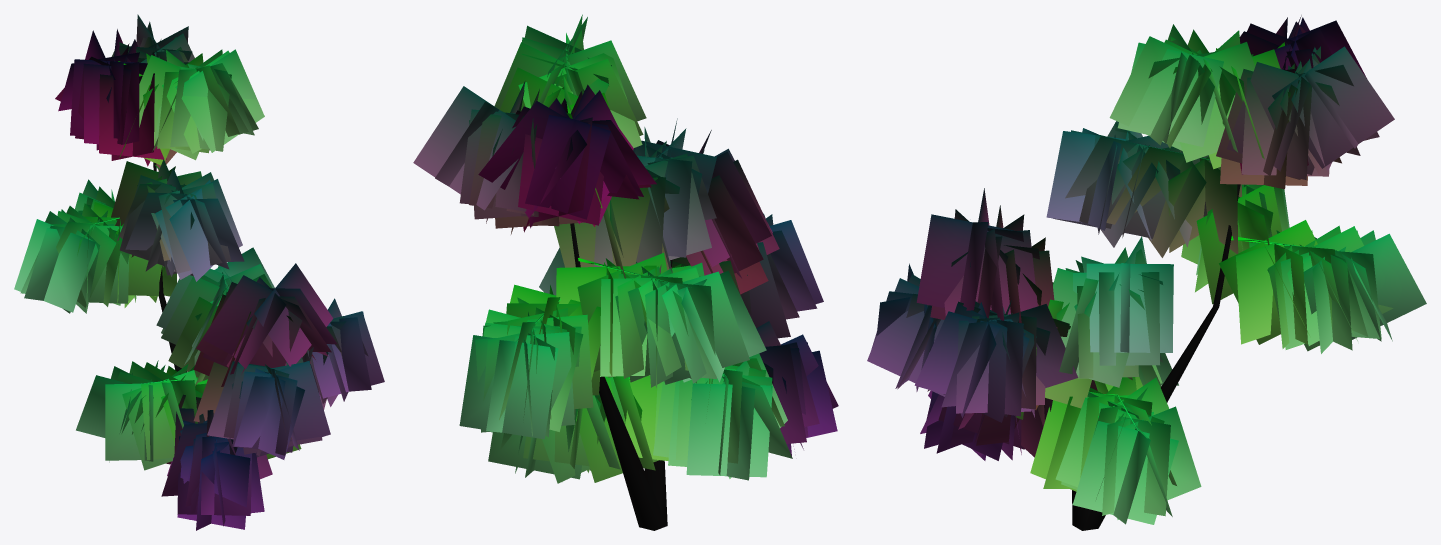
Rendered from URP_P13_Tree_7_LOD_3.fbx.
3 renders of one model, left to right at view 1: azimuth 30°, elevation 25°; view 2: azimuth 150°, elevation 25°; view 3: azimuth 270°, elevation 25°, orthographic. The views are drawn at different scales.
Parts seen in each view (by area): view 1: Tree_7_LOD_3; view 2: Tree_7_LOD_3; view 3: Tree_7_LOD_3.
Part boxes in pixels (x1,y1,x2,y2): Tree_7_LOD_3: (14,14,384,530); Tree_7_LOD_3: (413,14,838,530); Tree_7_LOD_3: (867,15,1426,530).
Size of the model in its own units: 419 by 645 by 646.
